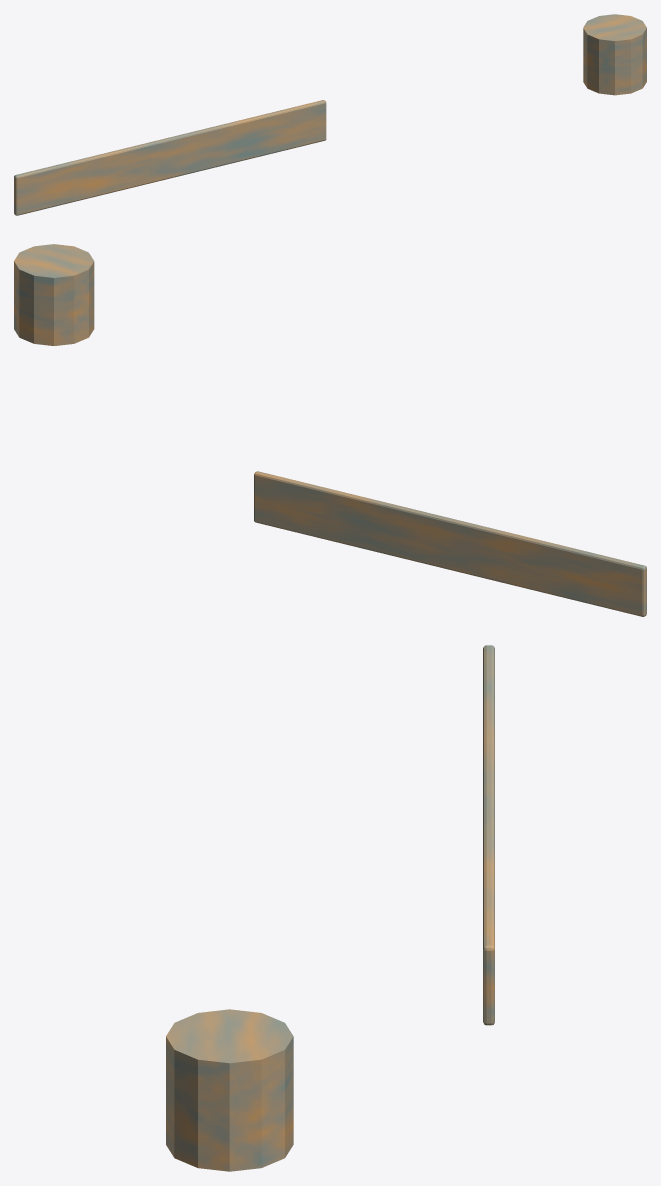
Rendered from base_med_alert.glb.
The picture shows the model from 3 angles, top to bottom: view 1: azimuth 30°, elevation 25°; view 2: azimuth 150°, elevation 25°; view 3: azimuth 270°, elevation 25°; orthographic projection. The views are drawn at different scales.
Visible parts, largest first — view 1: base_med_alert; view 2: base_med_alert; view 3: base_med_alert.
Boxes of the visible parts, x1,y1,x2,y2 form: base_med_alert: (14, 14, 646, 215); base_med_alert: (14, 244, 646, 616); base_med_alert: (166, 645, 494, 1171).
Size of the model in its own units: 3.26 by 0.58 by 0.825.
1 material, 1 textured.
